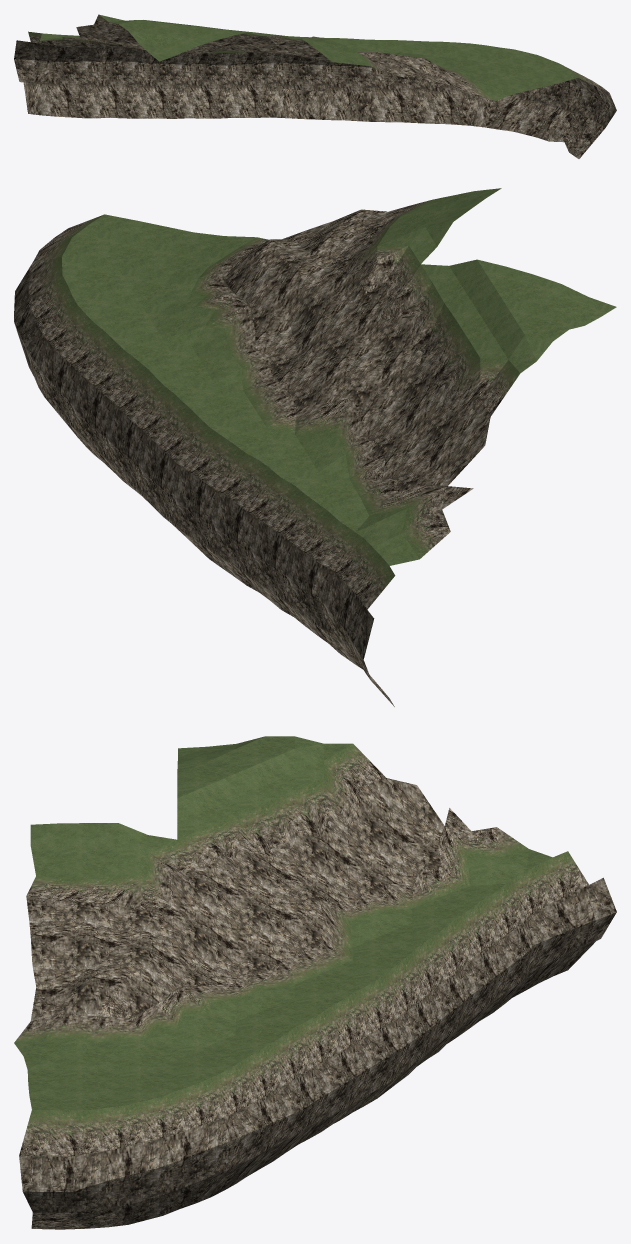
The model's file is a_carisle_mid_landmass_01_01.fbx.
3 views of the same model, one above another, from view 1: azimuth 30°, elevation 25°; view 2: azimuth 150°, elevation 25°; view 3: azimuth 270°, elevation 25° (orthographic). The views are drawn at different scales.
Parts seen in each view (by area): view 1: a_carisle_mid_landmass_01_01; view 2: a_carisle_mid_landmass_01_01; view 3: a_carisle_mid_landmass_01_01.
Boxes of the visible parts, <box> form: a_carisle_mid_landmass_01_01: <box>14,14,616,158</box>; a_carisle_mid_landmass_01_01: <box>14,188,616,706</box>; a_carisle_mid_landmass_01_01: <box>14,736,616,1229</box>.
Size of the model in its own units: 56.57 by 49.51 by 21.03.
